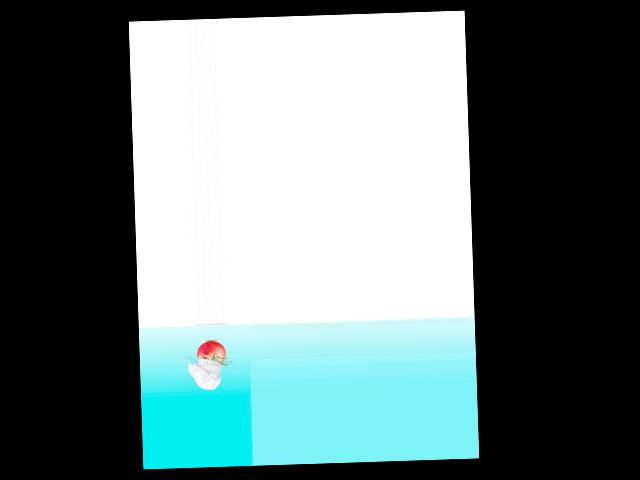tomato: (196, 341, 225, 365)
